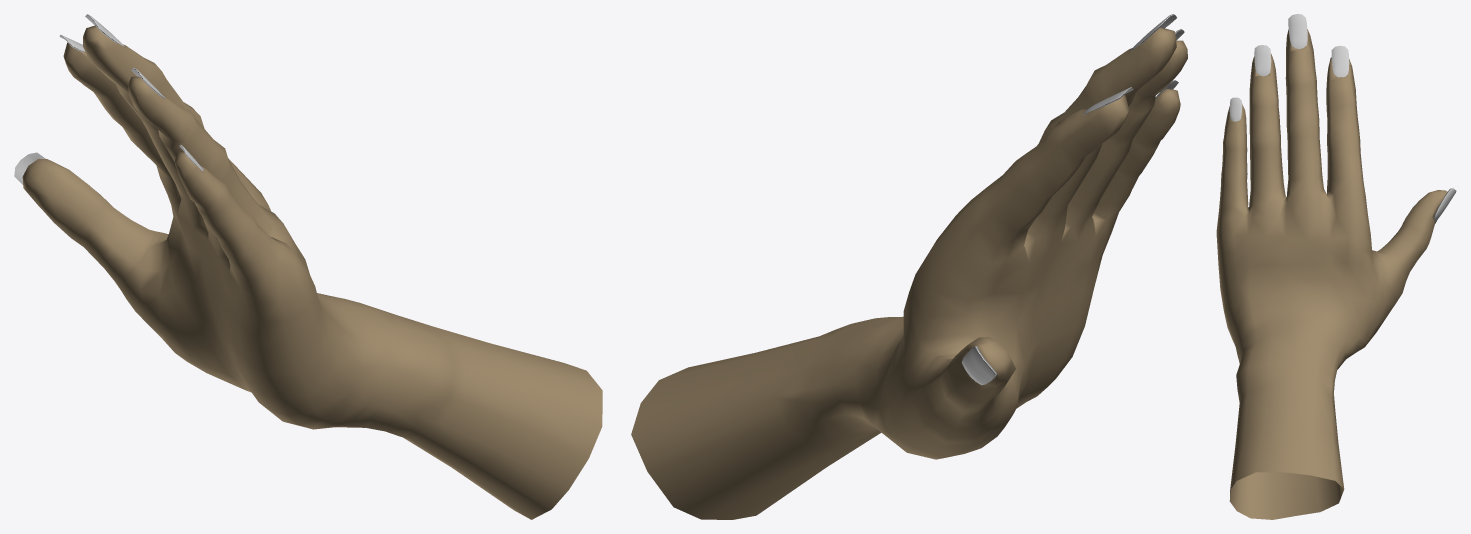
Rendered from Hand pose.fbx.
3 views of the same model, side by side, from view 1: azimuth 30°, elevation 25°; view 2: azimuth 150°, elevation 25°; view 3: azimuth 270°, elevation 25° (orthographic). The views are drawn at different scales.
Visible parts, largest first — view 1: polySurface1; view 2: polySurface1; view 3: polySurface1.
Part boxes in pixels (x1,y1,x2,y2): polySurface1: (14,14,602,519); polySurface1: (631,14,1187,519); polySurface1: (1216,14,1456,519).
Bounding box in the file's own units: 134 × 151 × 87.12.
